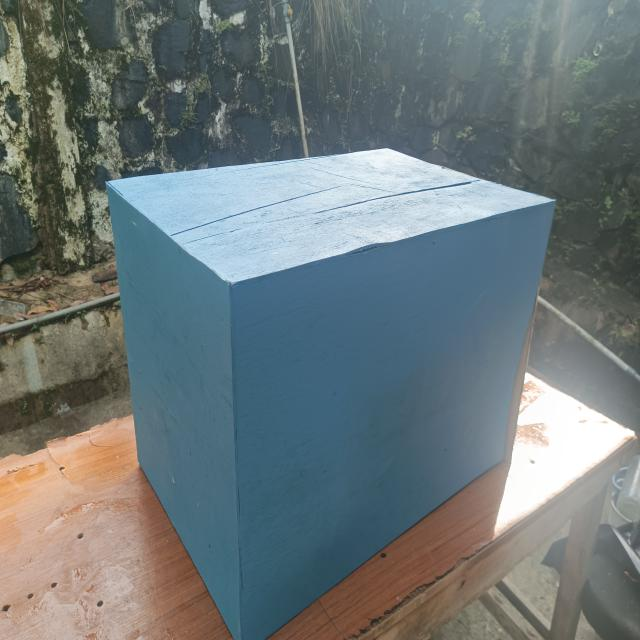blue_box: (61, 107, 576, 640)
